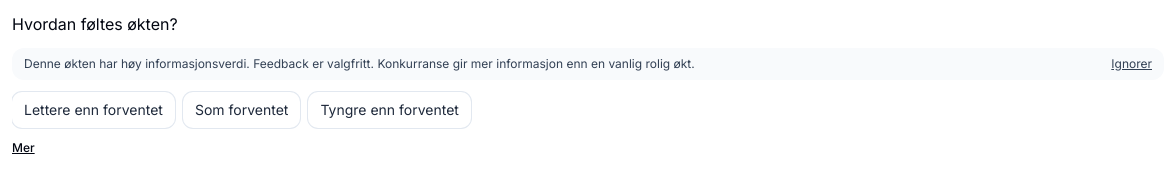
SessionFeelFeedback › saves a quick feel and keeps it selected
Expected: the text "høy informasjonsverdi" is shown, [24, 56, 374, 71]
Expected: the text "Konkurranse gir mer informasjon" is shown, [374, 56, 695, 71]
Click the button "Lettere enn forventet" at (93, 110), box [12, 92, 175, 128]
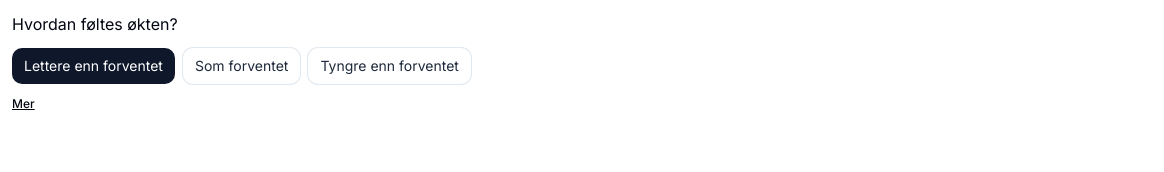
Expected: the text "høy informasjonsverdi" is gone
